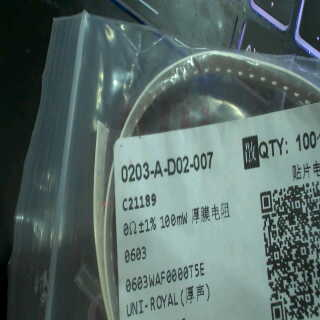0R: (115, 210, 188, 263)
